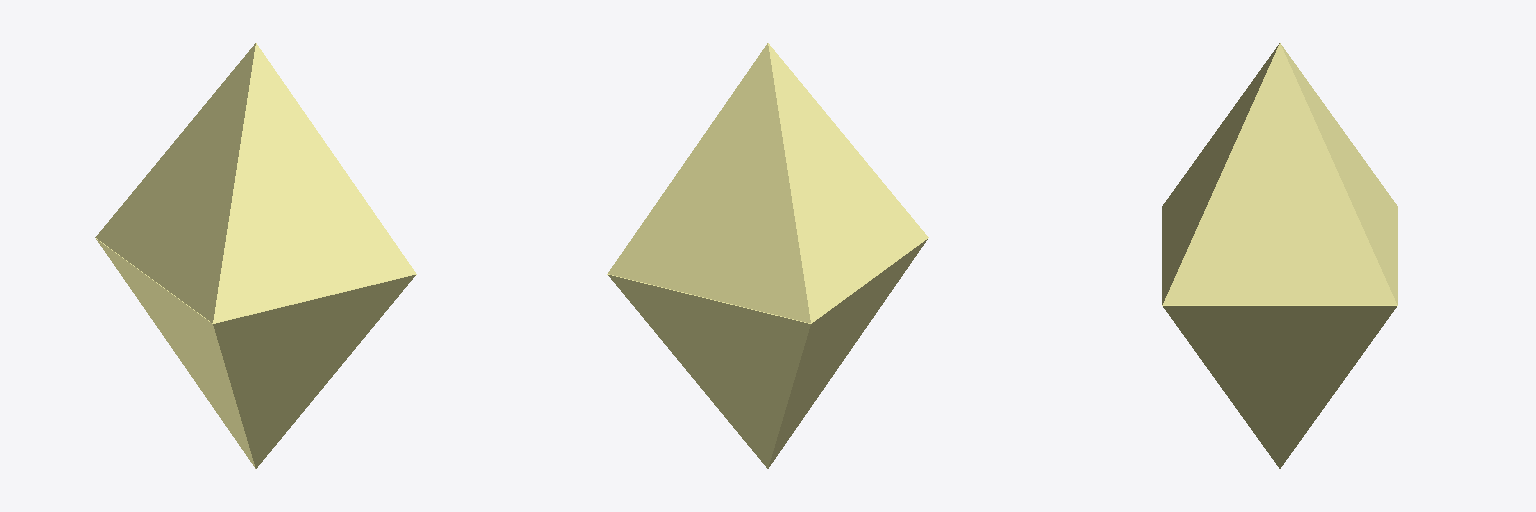
The picture shows the model from 3 angles: view 1: azimuth 30°, elevation 25°; view 2: azimuth 150°, elevation 25°; view 3: azimuth 270°, elevation 25°; orthographic projection.
Visible parts, largest first — view 1: 立方体.002; view 2: 立方体.002; view 3: 立方体.002.
Boxes of the visible parts, <box> form: 立方体.002: <box>95,43,416,468</box>; 立方体.002: <box>607,43,928,468</box>; 立方体.002: <box>1162,43,1397,468</box>.
Size of the model in its own units: 1.7 by 3.41 by 1.7.
1 materials, 1 textured.